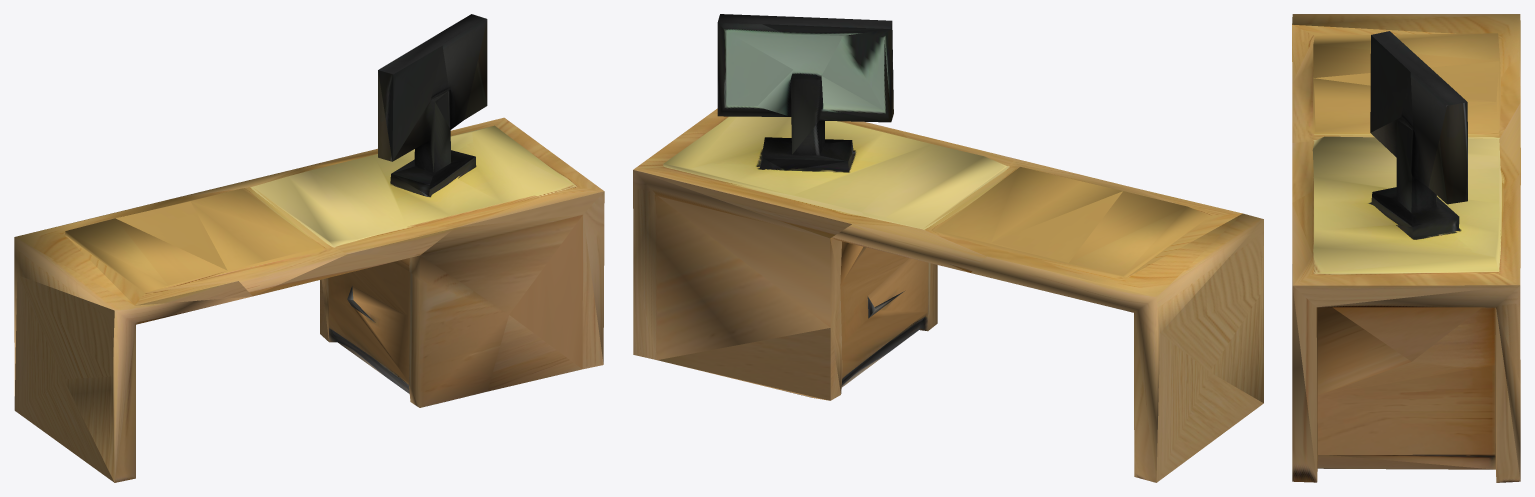
3 renders of one model, left to right at view 1: azimuth 30°, elevation 25°; view 2: azimuth 150°, elevation 25°; view 3: azimuth 270°, elevation 25°, orthographic. The views are drawn at different scales.
Parts seen in each view (by area): view 1: tripo_node_71923c95; view 2: tripo_node_71923c95; view 3: tripo_node_71923c95.
Part boxes in pixels (x1,y1,x2,y2): tripo_node_71923c95: (14, 14, 604, 482); tripo_node_71923c95: (633, 14, 1263, 482); tripo_node_71923c95: (1292, 14, 1520, 482).
Size of the model in its own units: 99.92 by 60.32 by 35.58.
